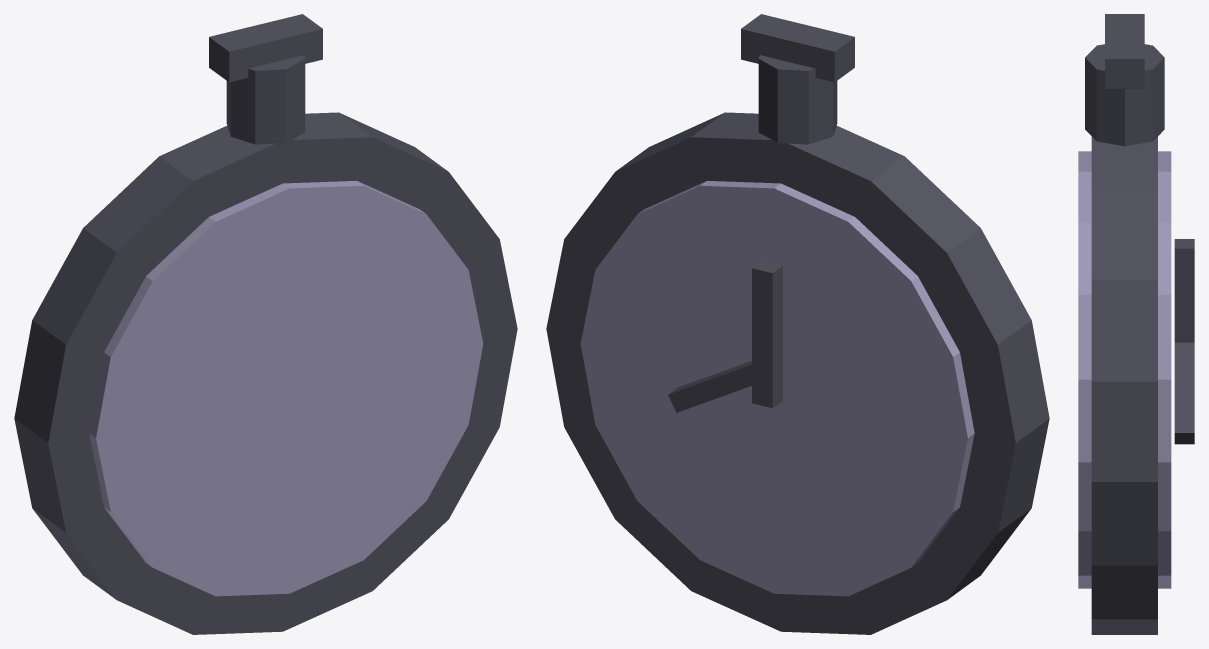
File: pu-time.glb
3 views of the same model, side by side, from view 1: azimuth 30°, elevation 25°; view 2: azimuth 150°, elevation 25°; view 3: azimuth 270°, elevation 25° (orthographic). The views are drawn at different scales.
Visible parts, largest first — view 1: PU_time; view 2: PU_time; view 3: PU_time.
Part boxes in pixels (left/top/right/bottom): PU_time: left=14, top=14, right=517, bottom=634; PU_time: left=546, top=14, right=1049, bottom=634; PU_time: left=1078, top=14, right=1194, bottom=634.
Size of the model in its own units: 0.8 by 0.955 by 0.175.
